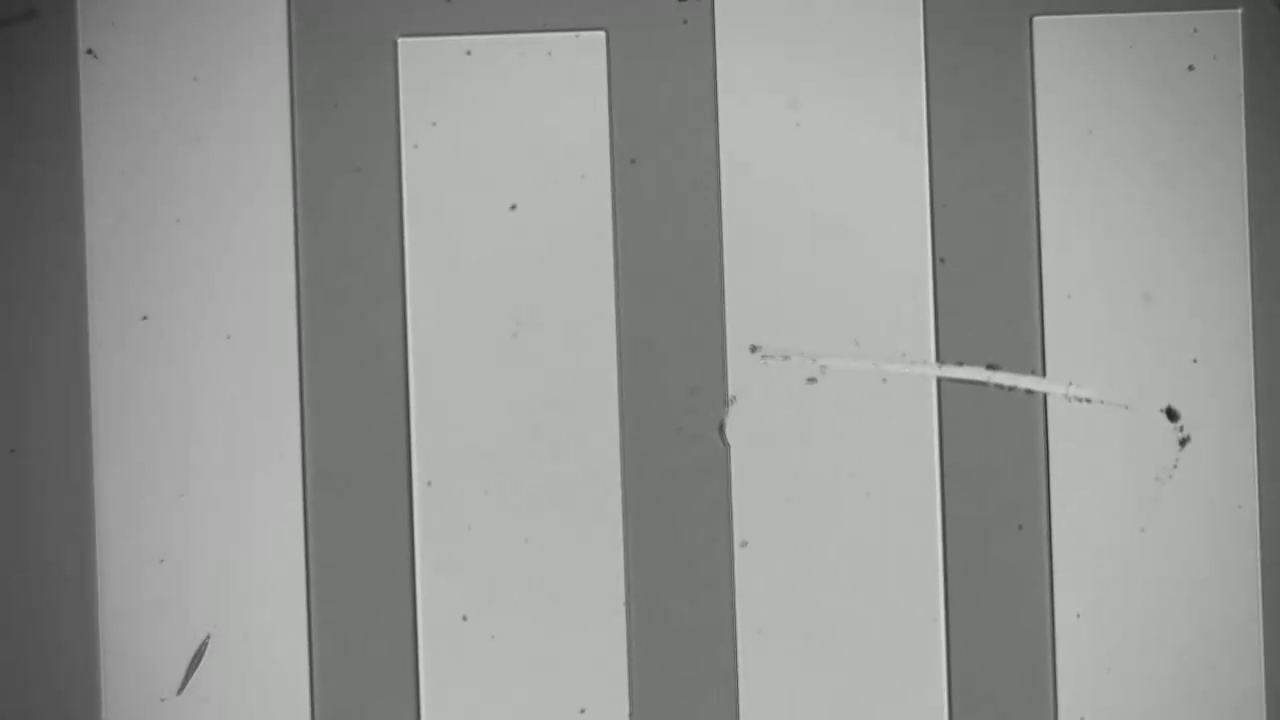Short_circuit: (909, 329, 1091, 427)
